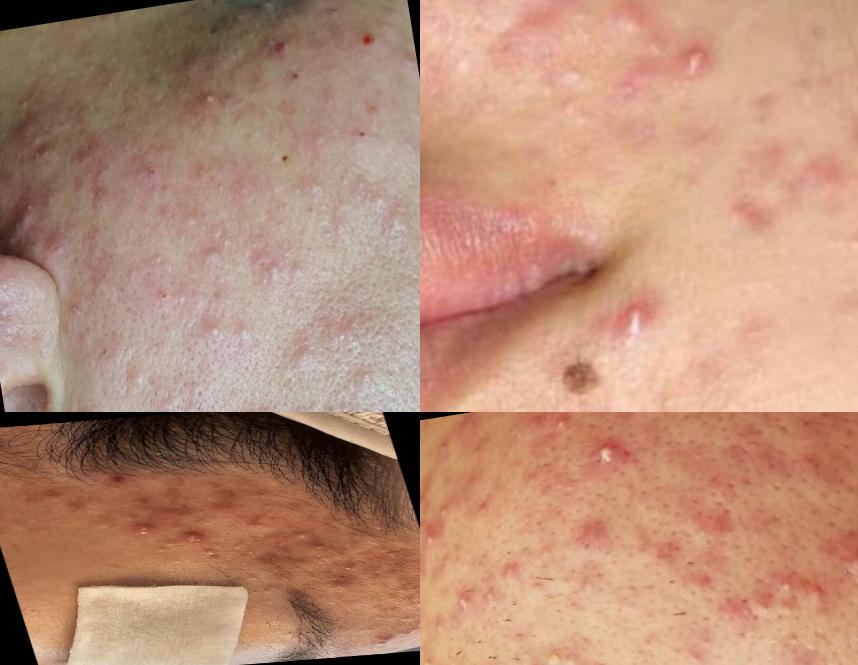blackhead: (777, 623, 815, 659), (162, 552, 196, 572), (246, 583, 282, 599), (19, 601, 49, 620), (307, 540, 334, 552)
folliculitis: (569, 513, 621, 556), (534, 640, 577, 665), (627, 653, 668, 665), (520, 651, 548, 665)
papular: (1, 191, 68, 268), (1, 104, 49, 134), (201, 498, 237, 518), (287, 528, 317, 543)
purulent: (589, 259, 681, 357), (644, 8, 728, 98), (508, 1, 570, 54), (585, 434, 631, 476), (449, 578, 478, 626), (421, 519, 448, 553), (772, 573, 805, 600), (547, 413, 579, 438), (421, 85, 428, 158), (421, 616, 434, 648), (421, 561, 428, 586)
sebo-crystan-conglo: (320, 576, 362, 600), (173, 527, 218, 549), (845, 530, 858, 585), (131, 521, 159, 542)
whitehead: (515, 39, 604, 148), (286, 240, 327, 295), (125, 352, 168, 404), (133, 230, 178, 279), (828, 204, 858, 268), (301, 108, 341, 155), (164, 186, 200, 236), (797, 578, 840, 611), (308, 164, 338, 204), (198, 307, 228, 344), (229, 311, 258, 349), (219, 538, 266, 561), (81, 511, 122, 535), (775, 597, 804, 624), (194, 85, 218, 112), (754, 596, 778, 622), (682, 645, 713, 665), (359, 610, 399, 625), (14, 511, 48, 528), (205, 247, 229, 269), (405, 597, 421, 610), (405, 620, 421, 630)
